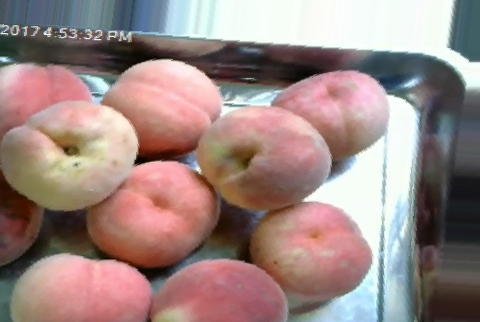Peach: (195, 105, 336, 214), (3, 99, 139, 211), (87, 160, 218, 266), (248, 201, 374, 302), (103, 58, 223, 157), (271, 69, 389, 159), (12, 252, 151, 321), (152, 257, 286, 322)
